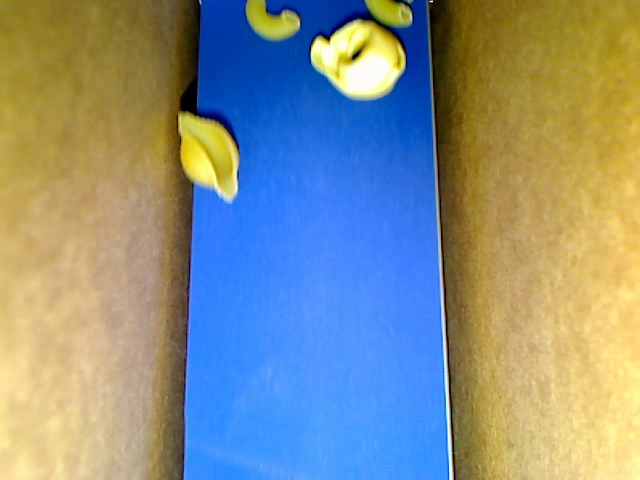elbow: (245, 1, 300, 43), (365, 1, 413, 27)
shell: (177, 112, 240, 202)
tortellini: (310, 20, 405, 99)
